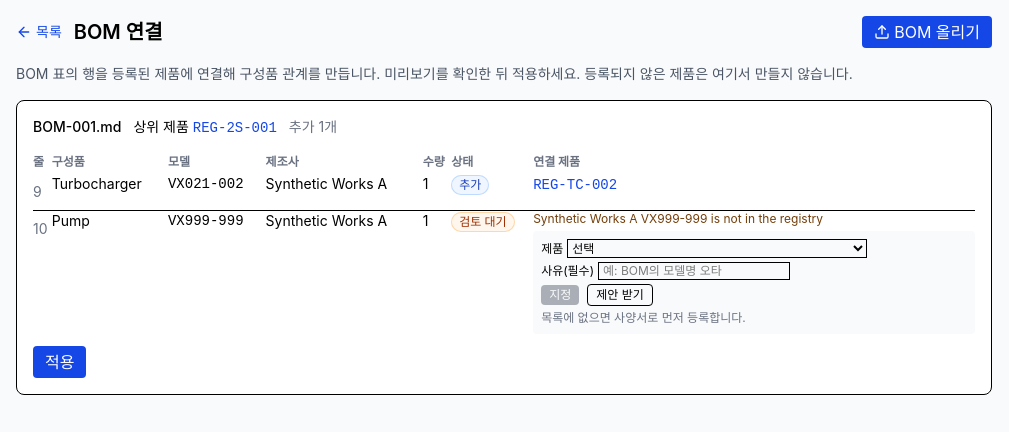
Test: BomPage › says when there is no suggestion and why
What coordinates should you click on to do the following:
click the button "제안 받기"
I would click on:
 (620, 295)
Its box is [587,284,653,306].
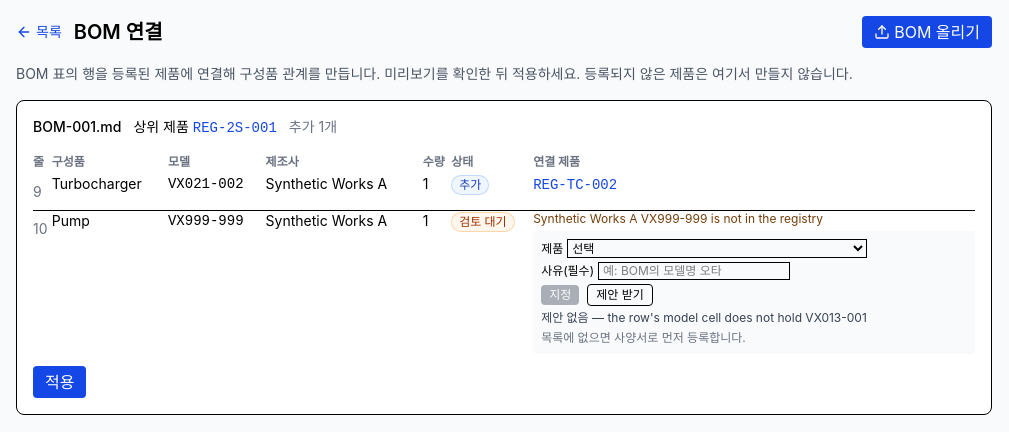
Check: the dropdown labelled "제품" shows "선택", box [567,239,867,258]
Check: the text "제안 없음 — the row's model cell does not hold VX013-001" is shown, box [541,310,867,325]
